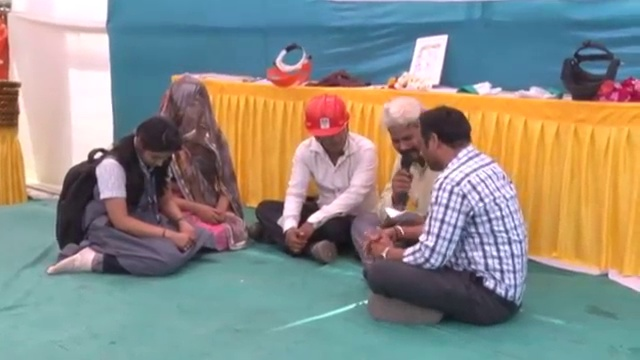helmet: (300, 91, 352, 136)
helmet_off: (419, 106, 475, 174), (124, 115, 183, 175), (381, 92, 427, 162), (163, 77, 216, 137)
helmet_on: (301, 88, 353, 156)
person: (355, 96, 533, 328), (250, 86, 396, 265), (49, 116, 205, 281), (348, 92, 447, 270), (154, 67, 245, 254)
